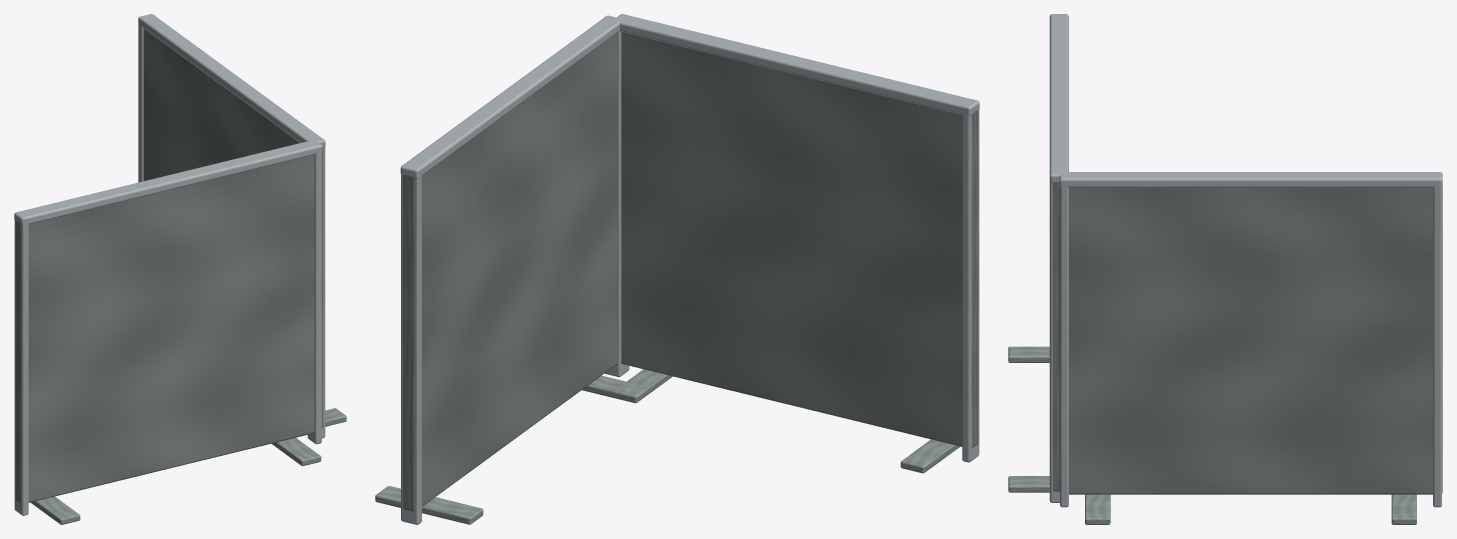
The model's file is liminal-spaces-kit-cubicle-corner-d45eda69__25246.glb.
3 renders of one model, left to right at view 1: azimuth 30°, elevation 25°; view 2: azimuth 150°, elevation 25°; view 3: azimuth 270°, elevation 25°, orthographic. The views are drawn at different scales.
Parts seen in each view (by area): view 1: cubicle-corner; view 2: cubicle-corner; view 3: cubicle-corner.
Boxes of the visible parts, <box> form: cubicle-corner: <box>14,14,346,524</box>; cubicle-corner: <box>375,14,979,524</box>; cubicle-corner: <box>1008,14,1442,524</box>.
Bounding box in the file's own units: 1.7 × 1.42 × 1.7.
3 materials, 2 textured.
